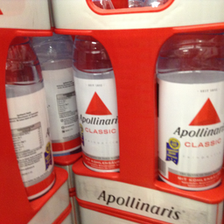water: (157, 31, 224, 191), (6, 38, 56, 201), (70, 36, 120, 171)
